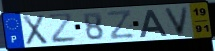8: (82, 11, 106, 41)
A: (139, 9, 169, 39)
V: (163, 6, 191, 38)
X: (21, 13, 49, 46)
Z: (46, 12, 78, 44), (106, 9, 136, 41)
